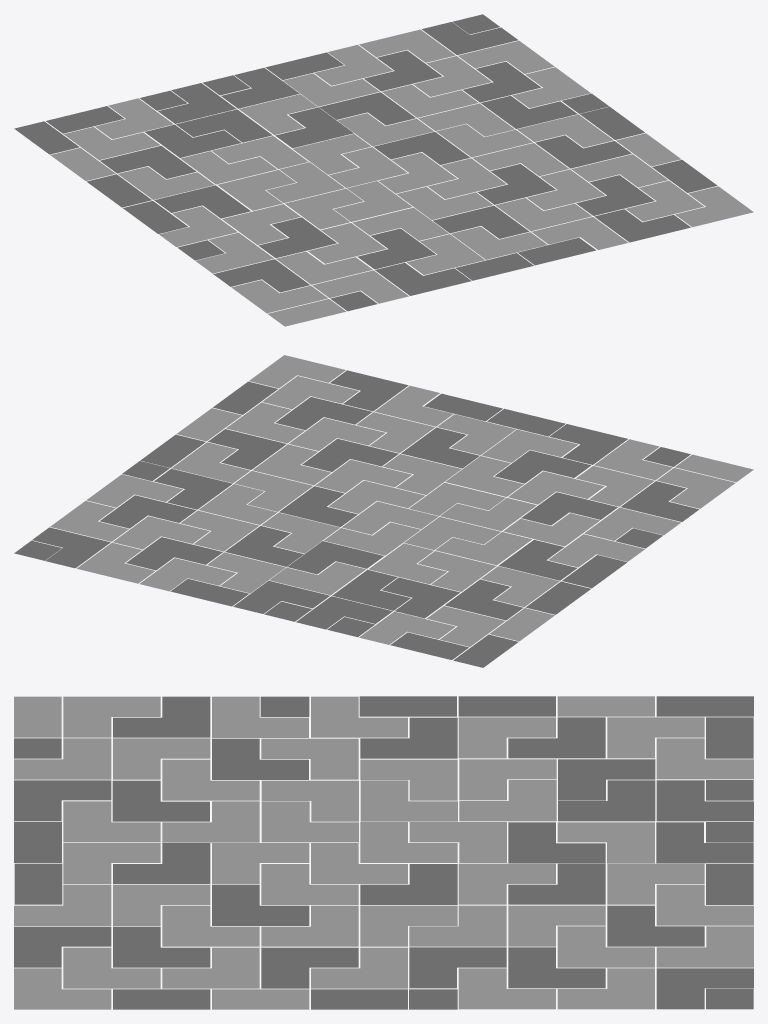
File: carpet_010.glb
3 renders of one model, top to bottom at view 1: azimuth 30°, elevation 25°; view 2: azimuth 150°, elevation 25°; view 3: azimuth 270°, elevation 25°, orthographic. The views are drawn at different scales.
Visible parts, largest first — view 1: carpet_010; view 2: carpet_010; view 3: carpet_010.
Part boxes in pixels (x1,y1,x2,y2): carpet_010: [14, 14, 753, 326]; carpet_010: [14, 355, 753, 667]; carpet_010: [14, 696, 753, 1009].
Size of the model in its own units: 2.77 by 0 by 2.77.
Materials: 1 (1 with a texture image).
